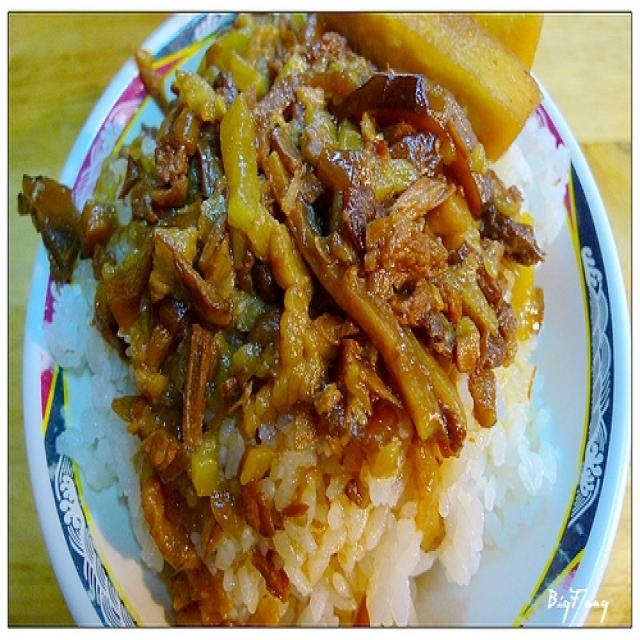猪肉菜式: (22, 28, 613, 621)
